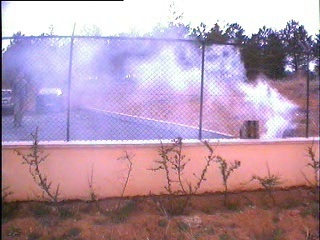smoke: (128, 24, 301, 141)
